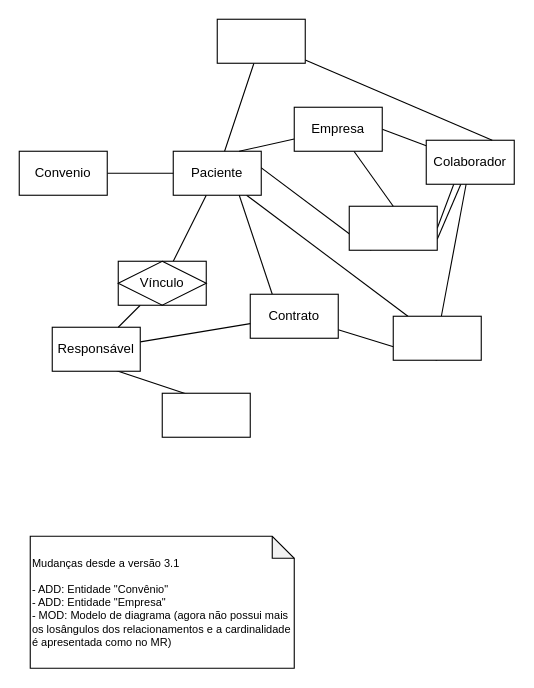
The diagram is 534 pixels wide and 688 high, and some of its shapes have lost their labels. Each missing label, with the centre of its shape:
"Agendamento" goes at (392,227).
"Avaliação" goes at (260,40).
"Documento" goes at (436,337).
"Pagamento" goes at (205,414).
